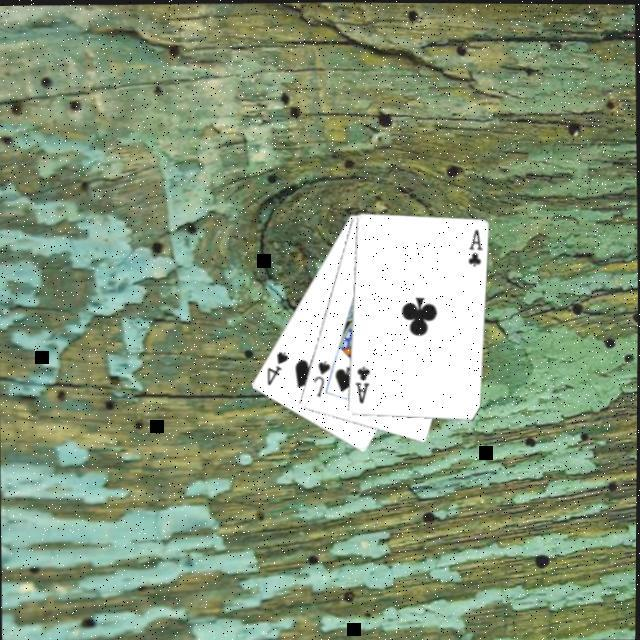4S: (261, 346, 290, 386)
AC: (461, 225, 484, 267), (350, 363, 371, 405)
JS: (308, 356, 332, 398)
